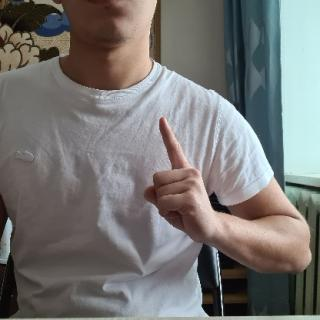RAA: (138, 115, 218, 245)
